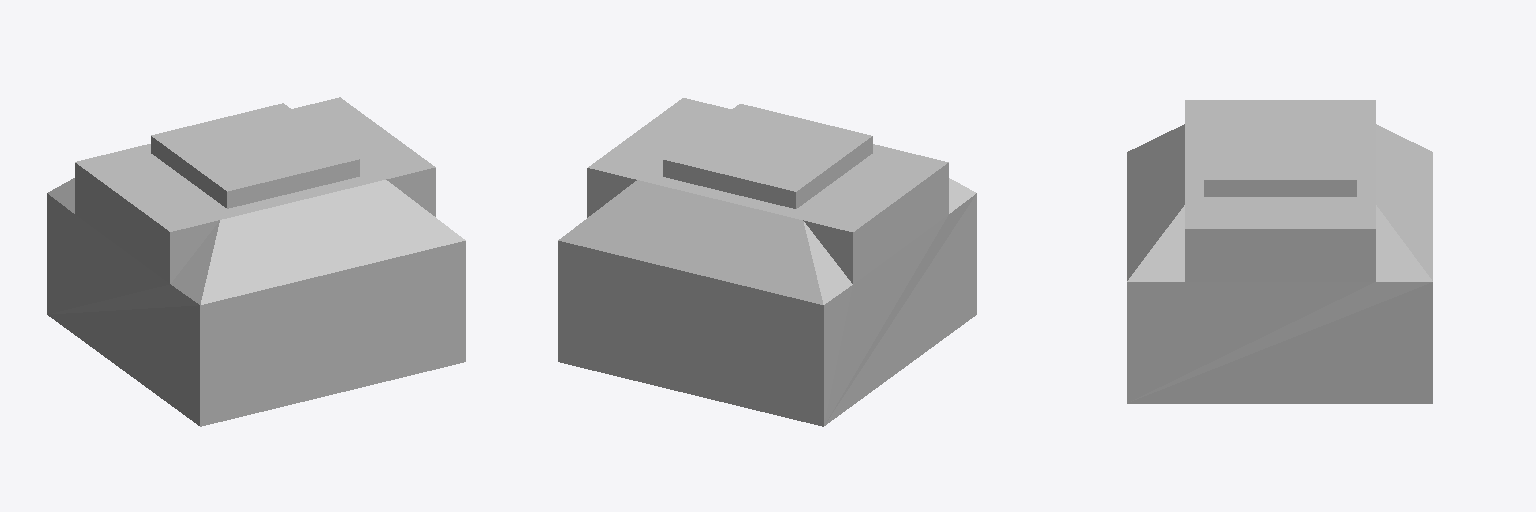
Rendered from inscriber.obj.
The picture shows the model from 3 angles: view 1: azimuth 30°, elevation 25°; view 2: azimuth 150°, elevation 25°; view 3: azimuth 270°, elevation 25°; orthographic projection.
Visible parts, largest first — view 1: base; view 2: base; view 3: base.
Part boxes in pixels (x1,y1,x2,y2): base: (47,97,465,426); base: (558,98,976,426); base: (1127,100,1432,403).
Size of the model in its own units: 0.9632 by 0.75 by 0.96.